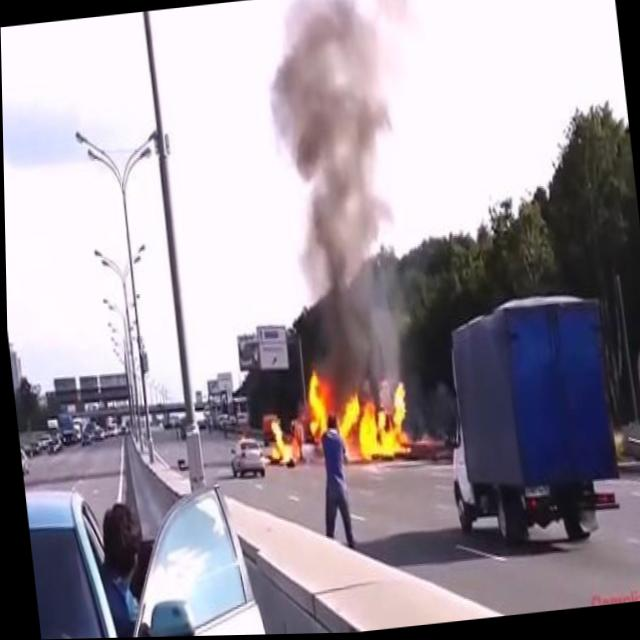fire: (299, 355, 417, 471), (259, 407, 300, 470)
